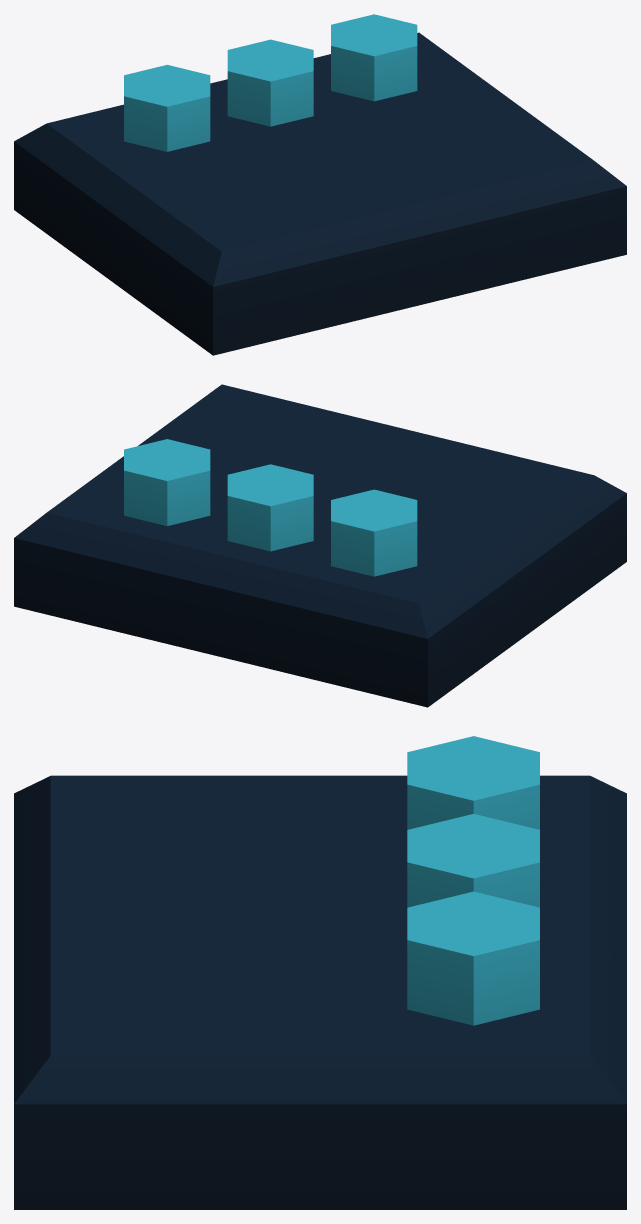
File: speed-module-3.glb
3 views of the same model, one above another, from view 1: azimuth 30°, elevation 25°; view 2: azimuth 150°, elevation 25°; view 3: azimuth 270°, elevation 25° (orthographic). The views are drawn at different scales.
Visible parts, largest first — view 1: speed-module-3; view 2: speed-module-3; view 3: speed-module-3.
Boxes of the visible parts, <box> form: speed-module-3: <box>14,14,626,355</box>; speed-module-3: <box>14,384,626,707</box>; speed-module-3: <box>14,736,626,1209</box>.
Size of the model in its own units: 0.24 by 0.075 by 0.2.
